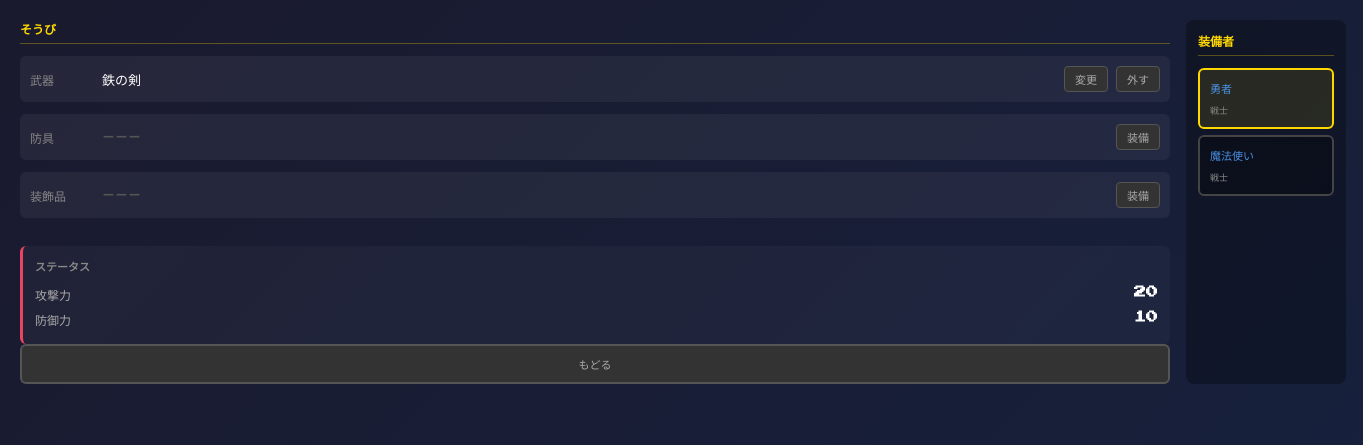
Test: EquipmentPanel › 装備変更 › 装備成功後にスロットビューに戻る
Step 1. Click the button "変更" → (1086, 79), box x1=1064 y1=66 x2=1108 y2=92
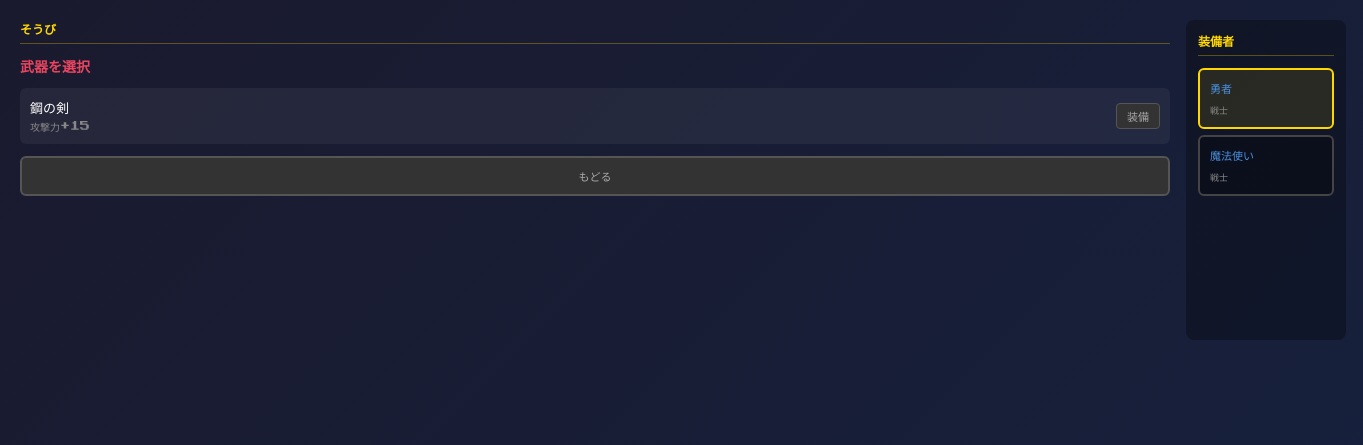
Step 2. Click the button "装備" → (1138, 116), box x1=1116 y1=103 x2=1160 y2=129
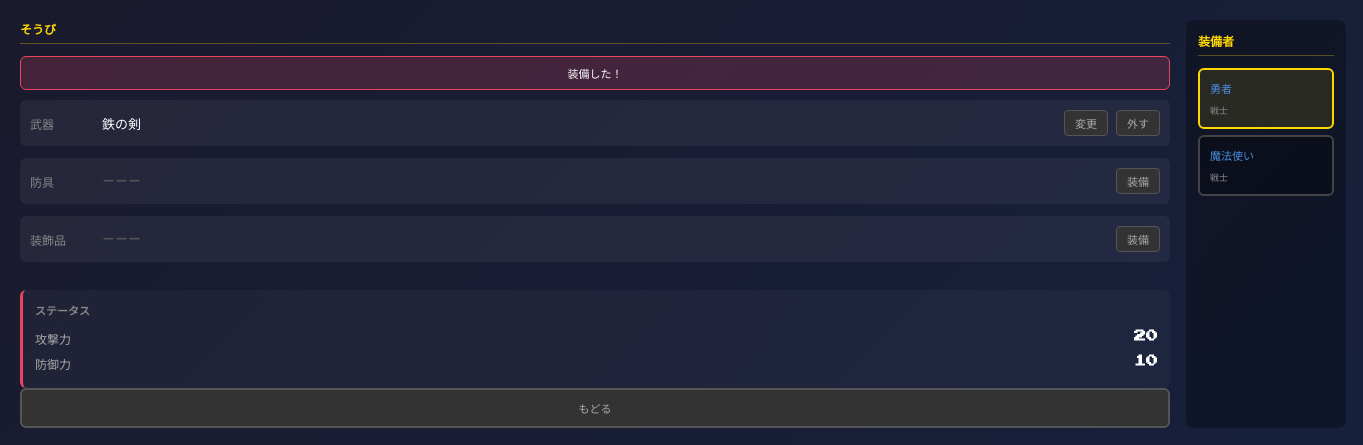
Expected: the heading "武器を選択" is gone
